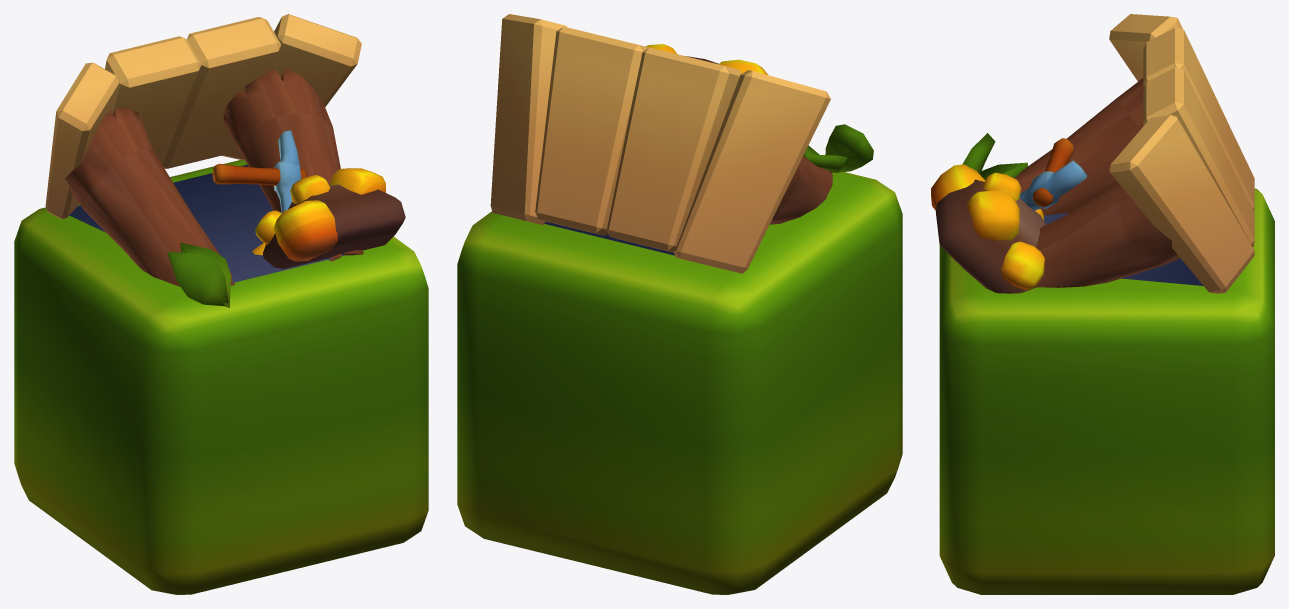
File: block_spec_mine.fbx
The picture shows the model from 3 angles, left to right: view 1: azimuth 30°, elevation 25°; view 2: azimuth 150°, elevation 25°; view 3: azimuth 270°, elevation 25°; orthographic projection. The views are drawn at different scales.
Visible parts, largest first — view 1: block_spec_mine; view 2: block_spec_mine; view 3: block_spec_mine.
Part boxes in pixels (<box>): block_spec_mine: <box>14,14,428,594</box>; block_spec_mine: <box>457,14,902,594</box>; block_spec_mine: <box>931,14,1274,594</box>.
Bounding box in the file's own units: 214 × 313 × 205.
